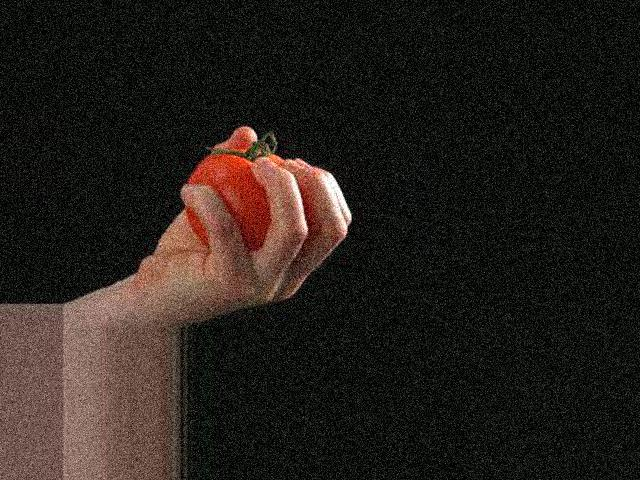tomato: (185, 153, 285, 253)
